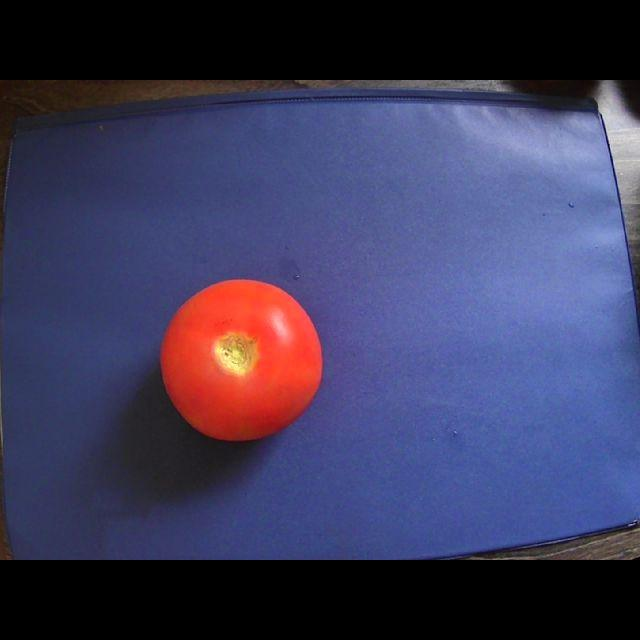tomate: (161, 280, 321, 439)
